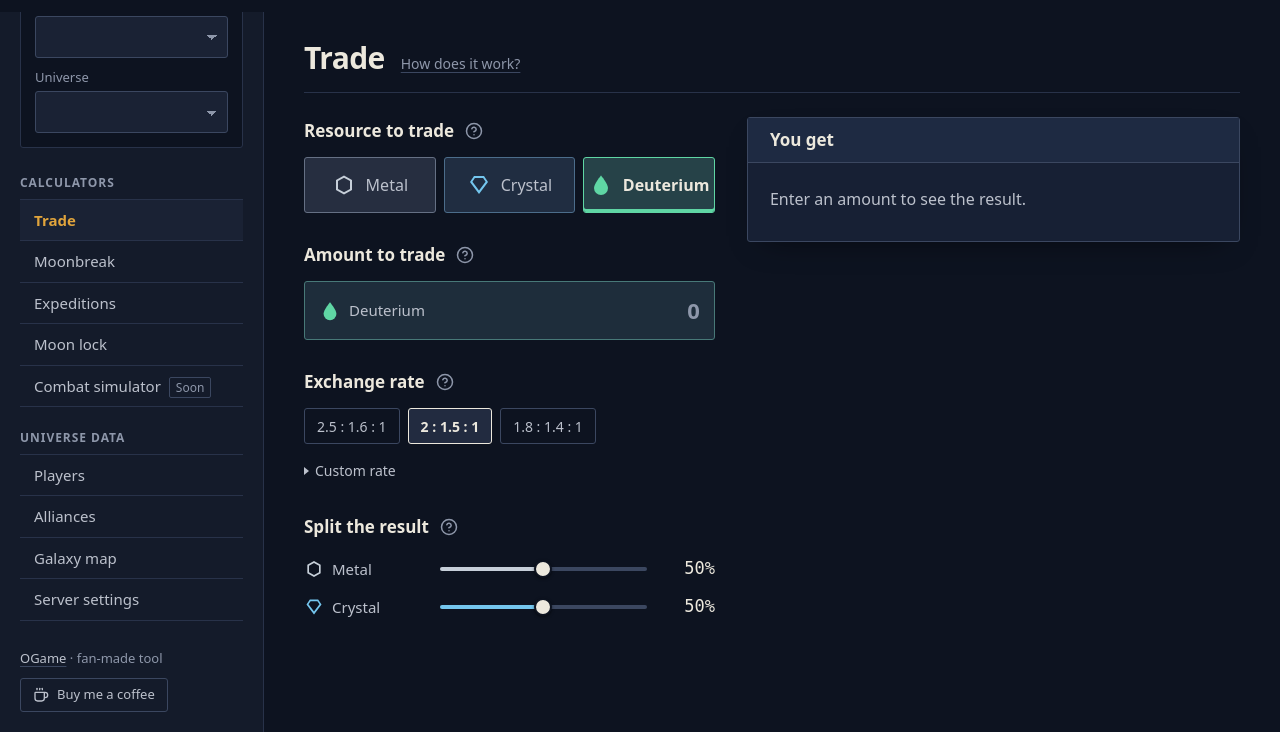
Test: <App /> › switches to the alliances tool
(page scrolled)
Click the link "Alliances". click: (65, 516)
box: [34,506,96,526]
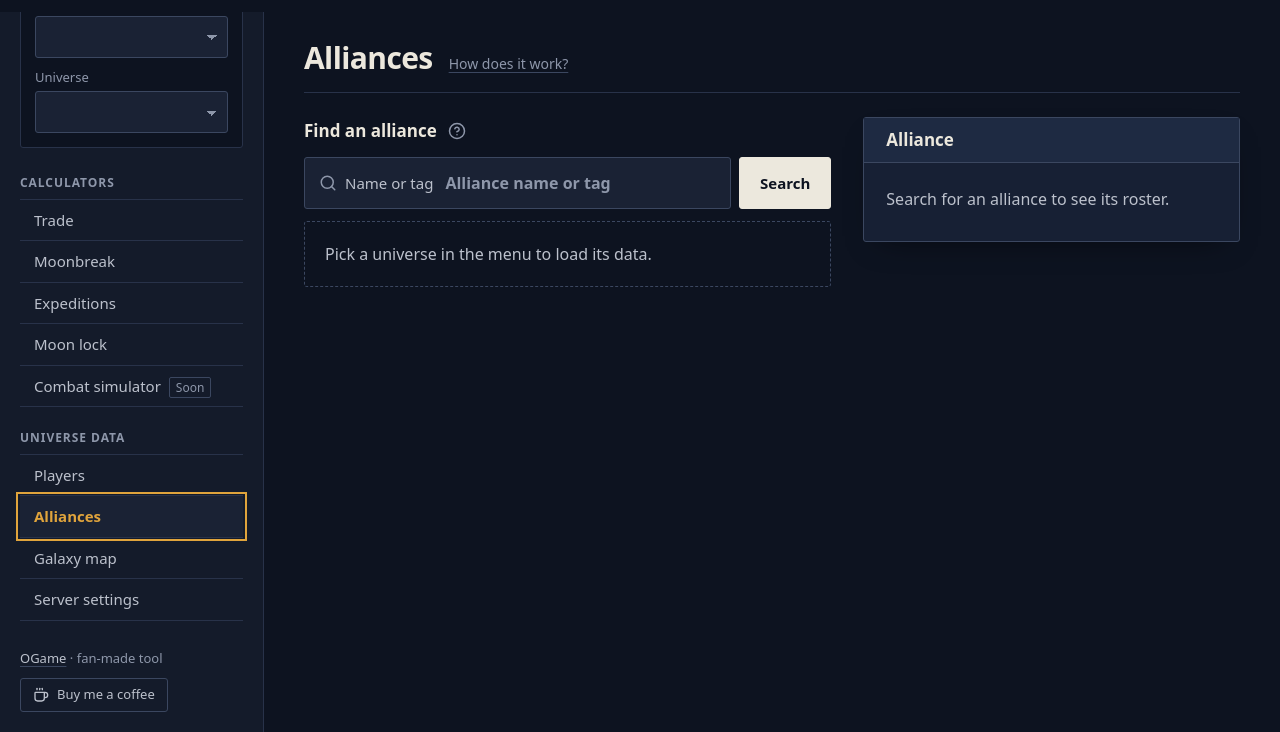
expect the heading "Find an alliance" is shown: met, box [304,121,437,141]
